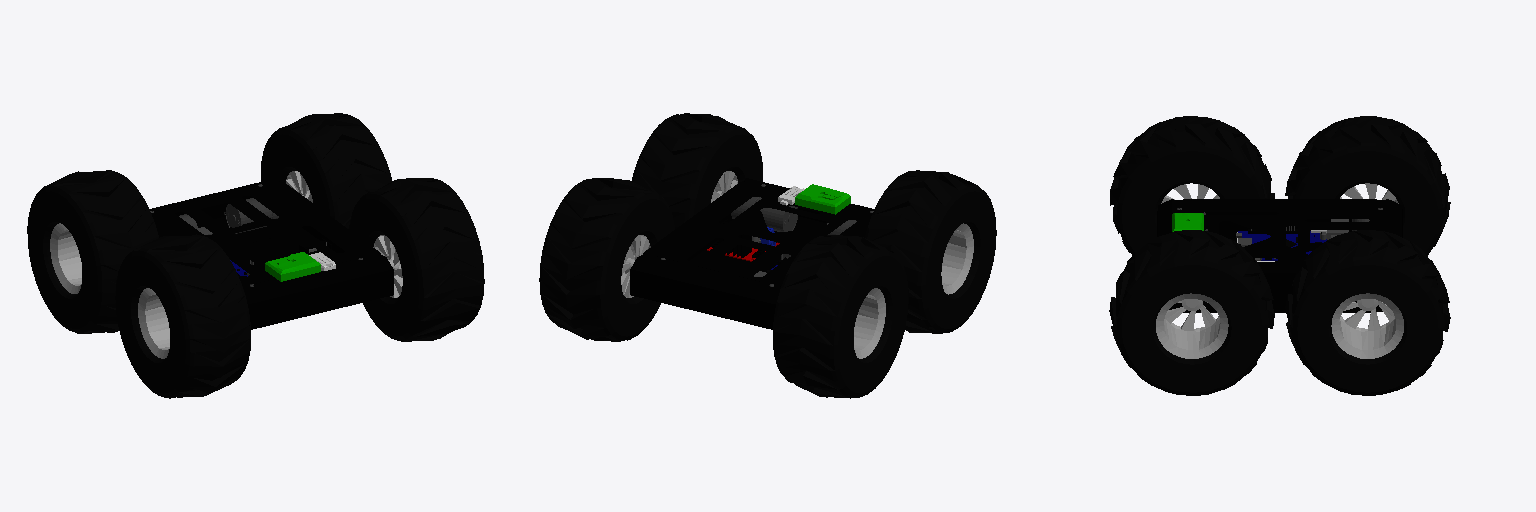
3 renders of one model, left to right at view 1: azimuth 30°, elevation 25°; view 2: azimuth 150°, elevation 25°; view 3: azimuth 270°, elevation 25°, orthographic.
Parts seen in each view (by area): view 1: Cylinder.013_Cylinder.024, Cylinder.014_Cylinder.025, Cylinder.015_Cylinder.026, Cube_Cube.001, Cylinder.012_Cylinder.017, Cube.001_Cube.002, Cylinder.004_Cylinder.002; view 2: Cylinder.015_Cylinder.026, Cylinder.012_Cylinder.017, Cylinder.013_Cylinder.024, Cylinder.014_Cylinder.025, Cube_Cube.001, Cube.001_Cube.002, Cylinder.007, User_Library-L298N-1; view 3: Cylinder.012_Cylinder.017, Cylinder.014_Cylinder.025, Cylinder.015_Cylinder.026, Cylinder.013_Cylinder.024, Cube.001_Cube.002, Cube_Cube.001, Cube.006_Cube.000, Cube.005_Cube.007.
Part boxes in pixels (x1,y1,x2,y2): Cylinder.013_Cylinder.024: (115,234,250,398); Cylinder.014_Cylinder.025: (349,178,484,341); Cylinder.015_Cylinder.026: (27,170,158,333); Cube_Cube.001: (150,178,393,329); Cylinder.012_Cylinder.017: (261,113,391,228); Cube.001_Cube.002: (152,182,380,286); Cylinder.004_Cylinder.002: (224,198,278,233); Cylinder.015_Cylinder.026: (773,235,908,398); Cylinder.012_Cylinder.017: (539,178,674,341); Cylinder.013_Cylinder.024: (865,170,996,333); Cylinder.014_Cylinder.025: (632,113,762,228); Cube_Cube.001: (630,178,873,329); Cube.001_Cube.002: (643,182,871,286); Cylinder.007: (731,197,797,231); User_Library-L298N-1: (707,219,779,261); Cylinder.012_Cylinder.017: (1285,230,1450,395); Cylinder.014_Cylinder.025: (1109,230,1274,395); Cylinder.015_Cylinder.026: (1285,116,1450,256); Cylinder.013_Cylinder.024: (1110,116,1274,254); Cube.001_Cube.002: (1183,199,1376,273); Cube_Cube.001: (1157,199,1402,312); Cube.006_Cube.000: (1170,274,1382,311); Cube.005_Cube.007: (1180,200,1379,238).
Size of the model in its own units: 54.9 by 26.39 by 54.38.